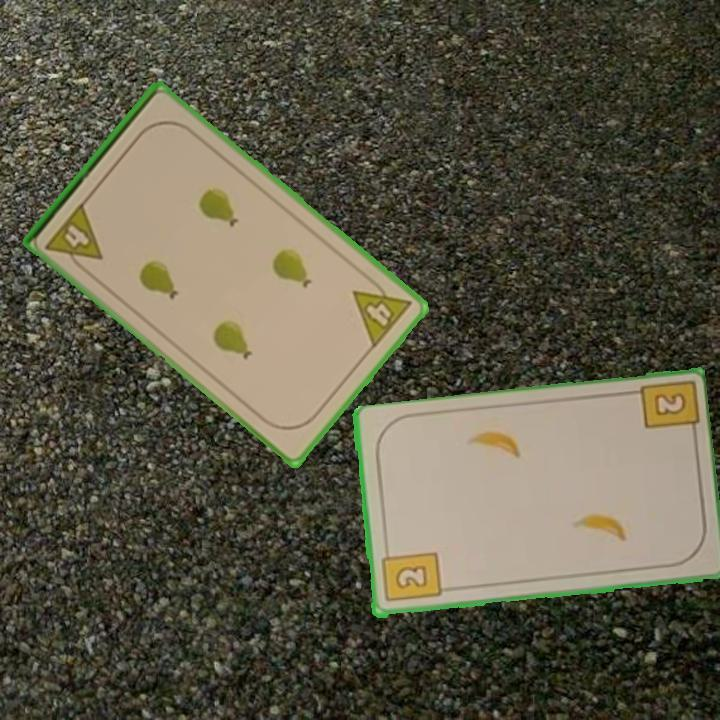2b: (377, 544, 443, 605), (650, 389, 689, 419)
4p: (349, 271, 415, 352), (42, 198, 106, 277)
